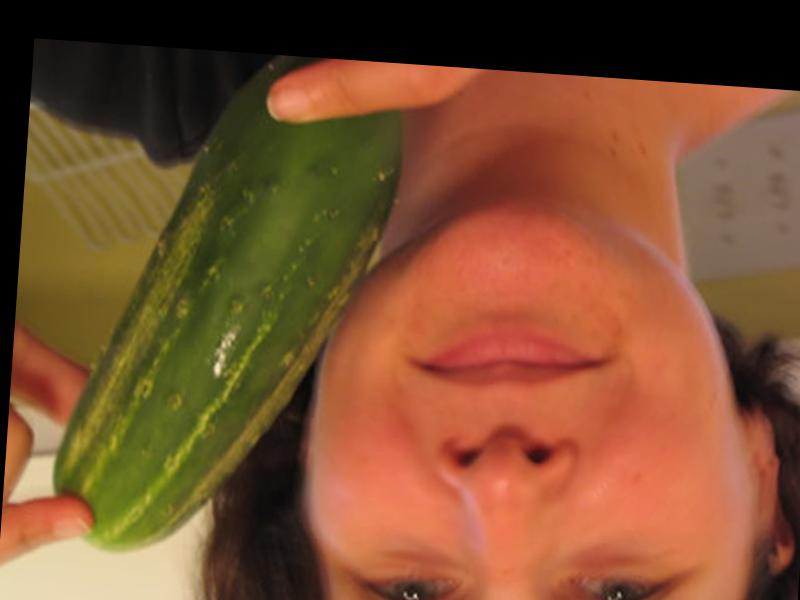Cucumber: (50, 43, 412, 572)
